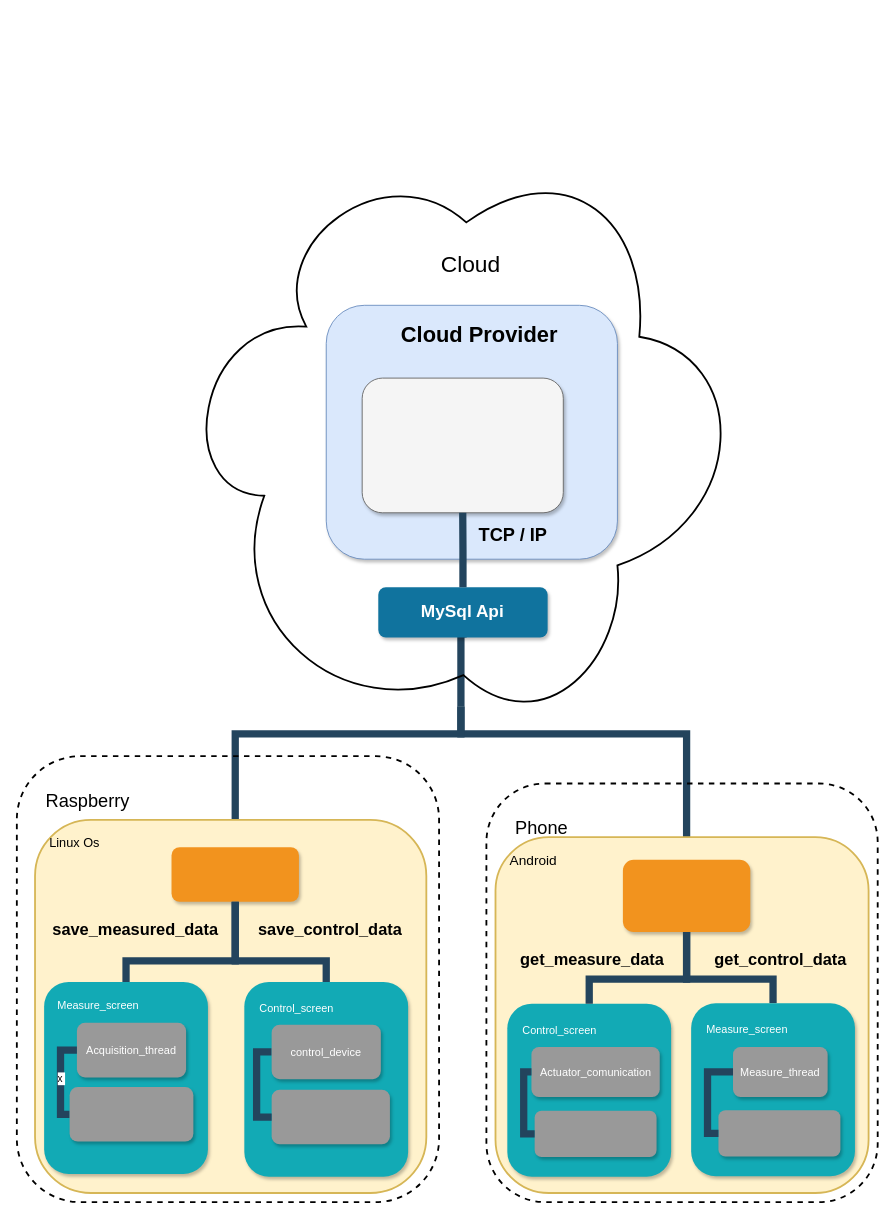
This 894x1219 diagram has some shape labels left out. Each missing label, with the centre of its shape:
Android Sql Api: the point at 687,897
Control_callbacks: the point at 596,1135
file_system_handler: the point at 132,1115
Graphics: the point at 779,1134
Java Sql Api: the point at 235,875
SQL: the point at 463,446
User_input: the point at 331,1118
